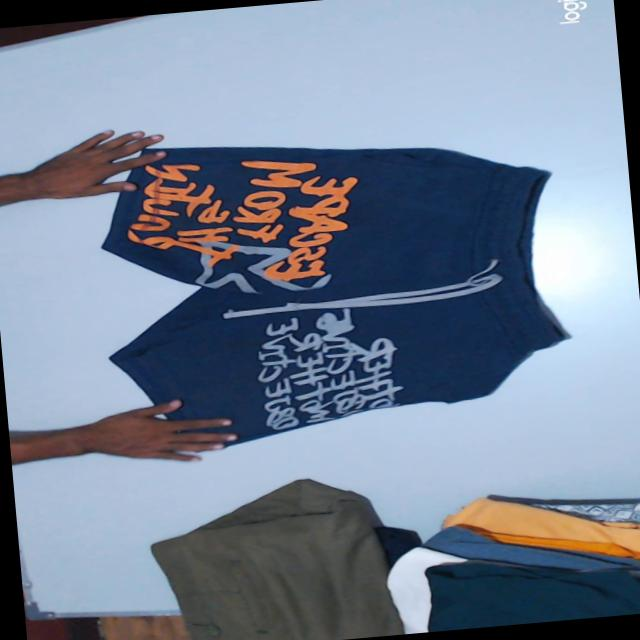new-garment: (102, 146, 566, 441)
